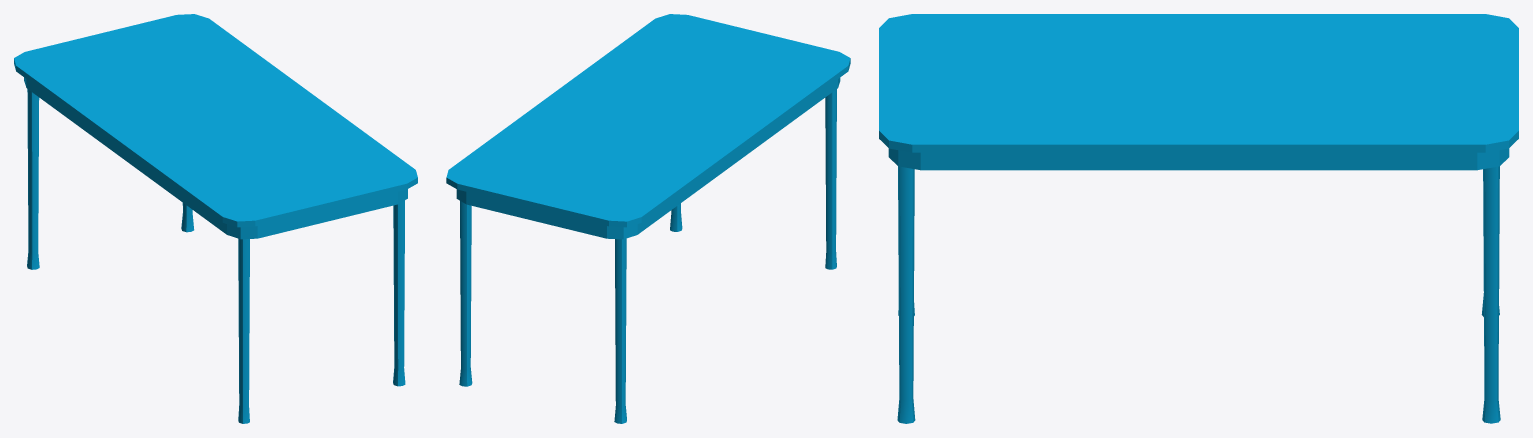
Rendered from Table_Kitchen_01_Lod1.fbx.
3 views of the same model, side by side, from view 1: azimuth 30°, elevation 25°; view 2: azimuth 150°, elevation 25°; view 3: azimuth 270°, elevation 25° (orthographic). The views are drawn at different scales.
Parts seen in each view (by area): view 1: Table_Kitchen_01_Lod1; view 2: Table_Kitchen_01_Lod1; view 3: Table_Kitchen_01_Lod1.
Part boxes in pixels (x1,y1,x2,y2): Table_Kitchen_01_Lod1: [14, 14, 417, 423]; Table_Kitchen_01_Lod1: [446, 14, 850, 423]; Table_Kitchen_01_Lod1: [879, 14, 1518, 423].
Bounding box in the file's own units: 74.48 × 76.58 × 154.
